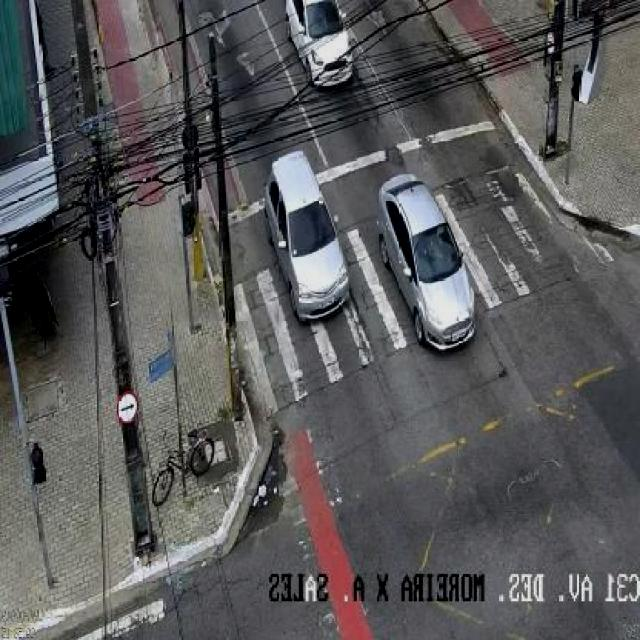Car: (251, 128, 362, 330), (382, 153, 476, 360), (265, 0, 374, 92)
Cycle: (140, 429, 221, 523)
